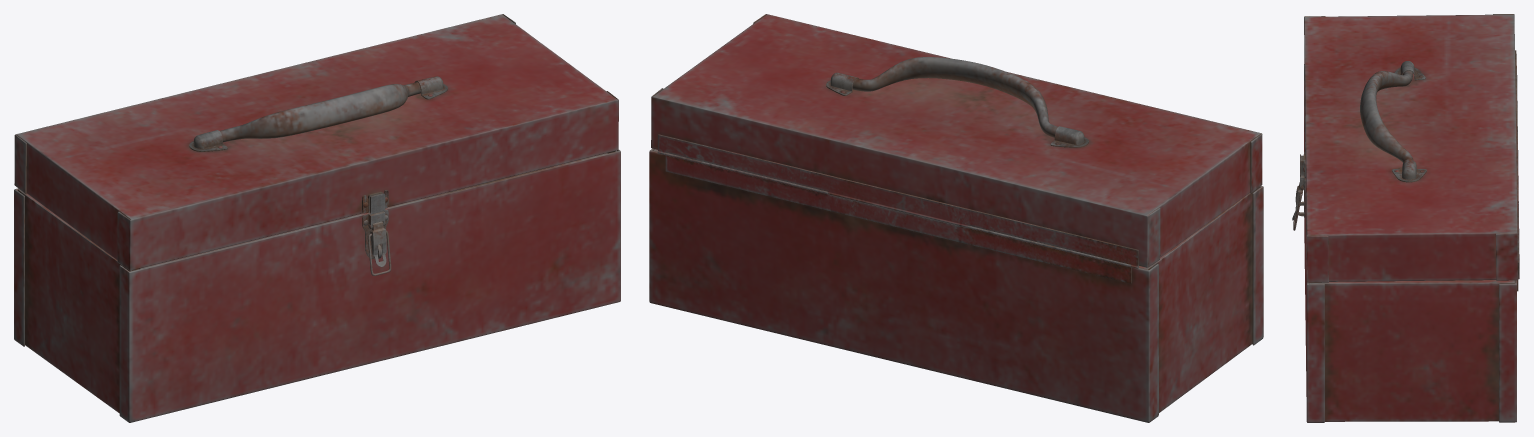
File: caixa.glb
The picture shows the model from 3 angles, left to right: view 1: azimuth 30°, elevation 25°; view 2: azimuth 150°, elevation 25°; view 3: azimuth 270°, elevation 25°; orthographic projection. The views are drawn at different scales.
Visible parts, largest first — view 1: ToolBox_Base, ToolBox_Lid; view 2: ToolBox_Base, ToolBox_Lid; view 3: ToolBox_Lid, ToolBox_Base.
Boxes of the visible parts, x1,y1,x2,y2 form: ToolBox_Base: (14,150,620,422); ToolBox_Lid: (14,14,618,270); ToolBox_Base: (649,148,1263,422); ToolBox_Lid: (651,14,1262,268); ToolBox_Lid: (1300,14,1519,282); ToolBox_Base: (1292,64,1519,422).
Bounding box in the file's own units: 0.509 × 0.2347 × 0.221.
1 material, 1 textured.
